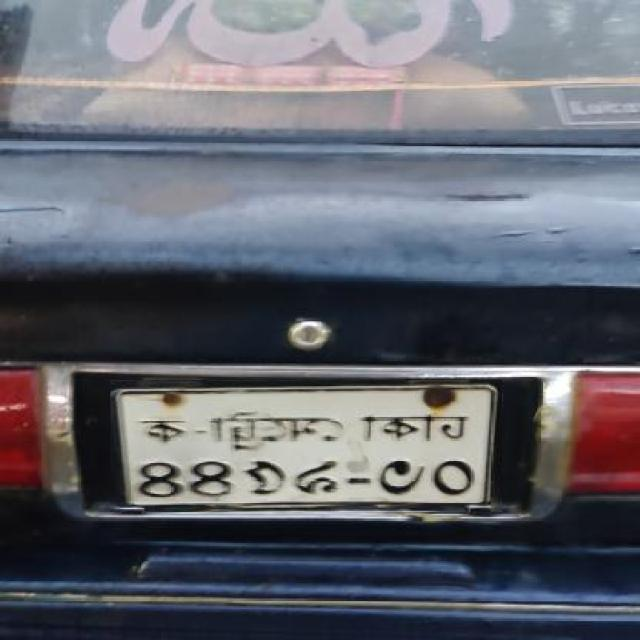numberplate: (110, 380, 502, 512)
